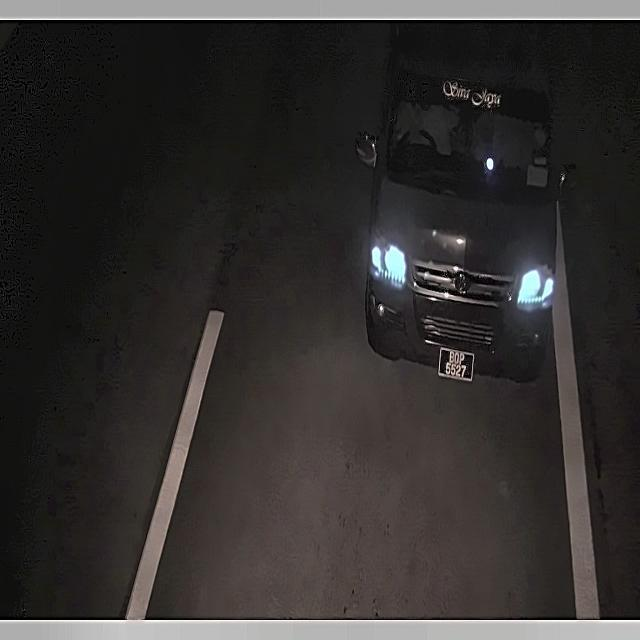car: (434, 339, 482, 391)
